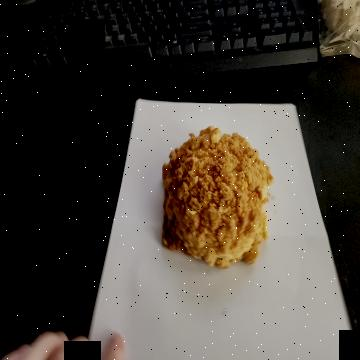soboru_bread: (158, 125, 273, 274)
